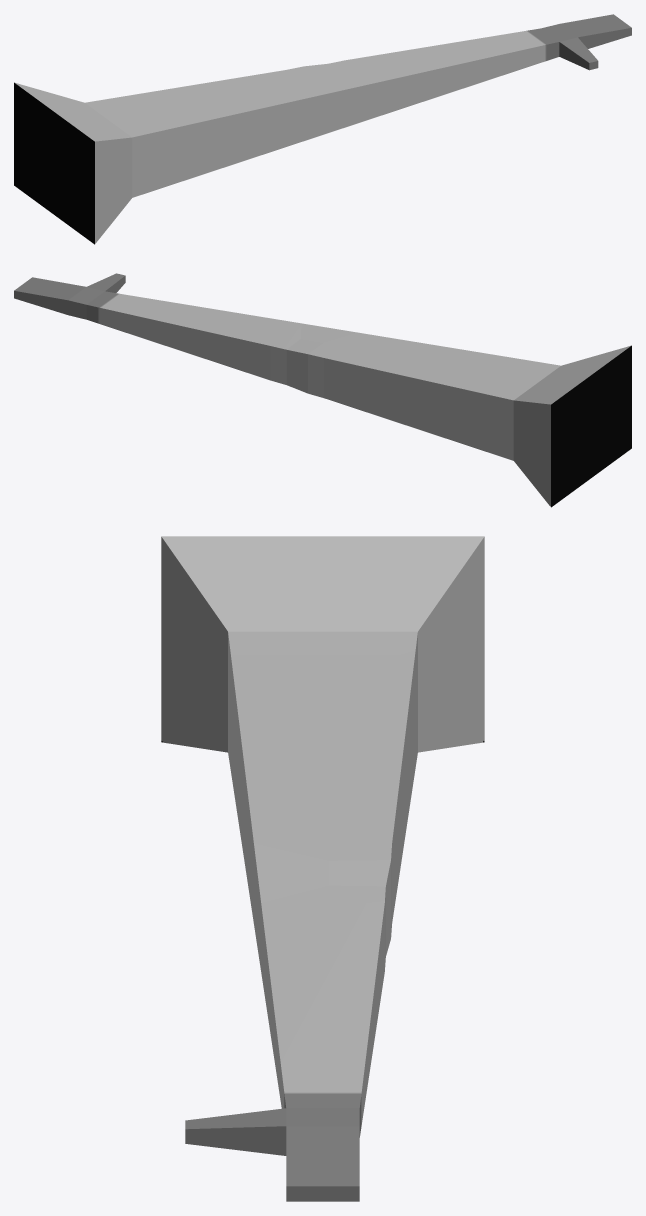
The model's file is robotArm.fbx.
3 views of the same model, one above another, from view 1: azimuth 30°, elevation 25°; view 2: azimuth 150°, elevation 25°; view 3: azimuth 270°, elevation 25° (orthographic). The views are drawn at different scales.
Parts seen in each view (by area): view 1: Cube.001; view 2: Cube.001; view 3: Cube.001.
Boxes of the visible parts, x1=… form: Cube.001: x1=14, y1=14, x2=631, y2=244; Cube.001: x1=14, y1=273, x2=631, y2=507; Cube.001: x1=161, y1=536, x2=484, y2=1201.
Size of the model in its own units: 106 by 18.29 by 26.02.
